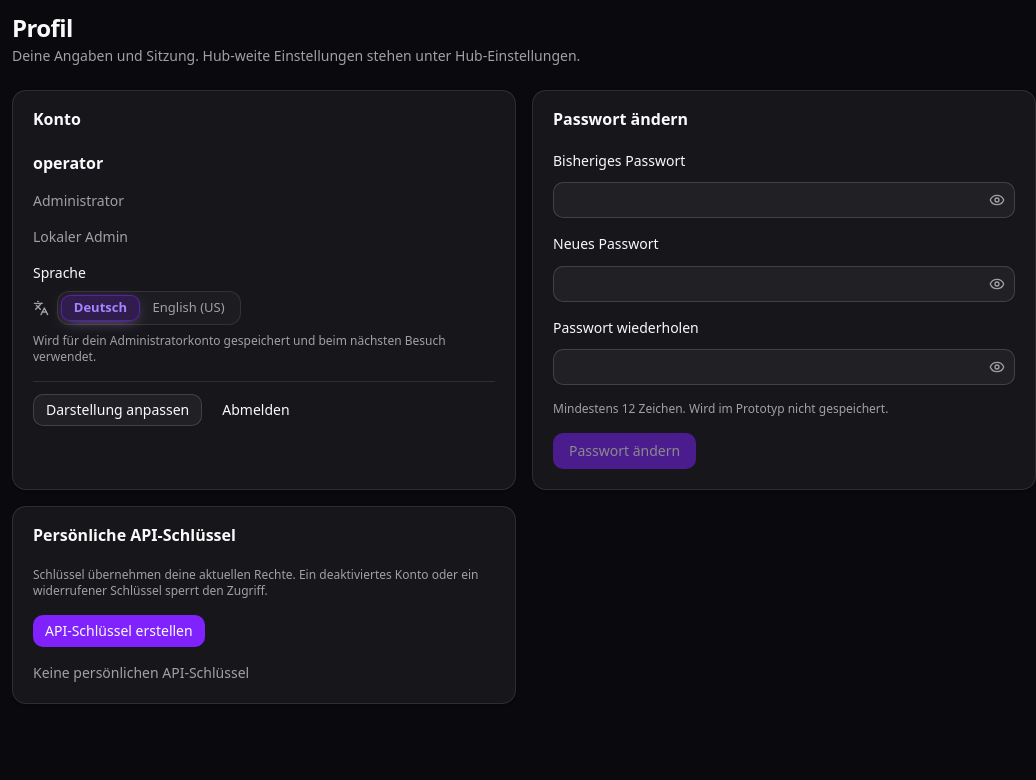
it: keeps a wrong current password inline on the protected profile
Type "wrong-password" into the password field labelled "Bisheriges Passwort" at (770,200), box [554, 182, 985, 218]
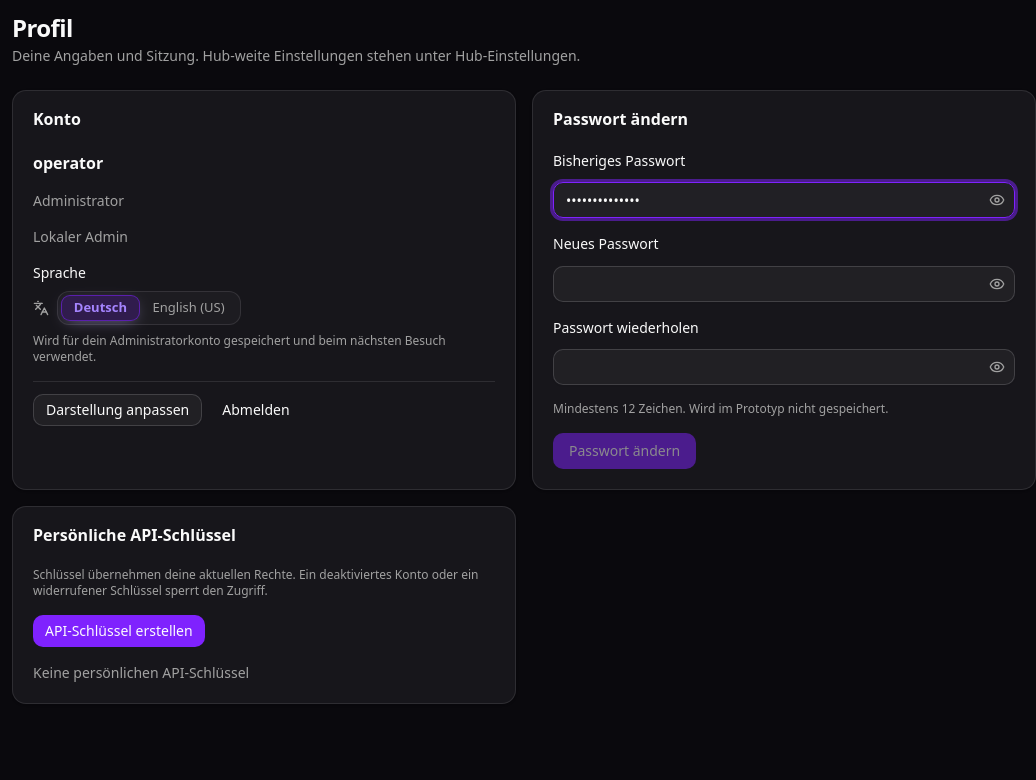
Type "New-password1!" into the password field labelled "Neues Passwort" at (770,284), box [554, 266, 985, 302]
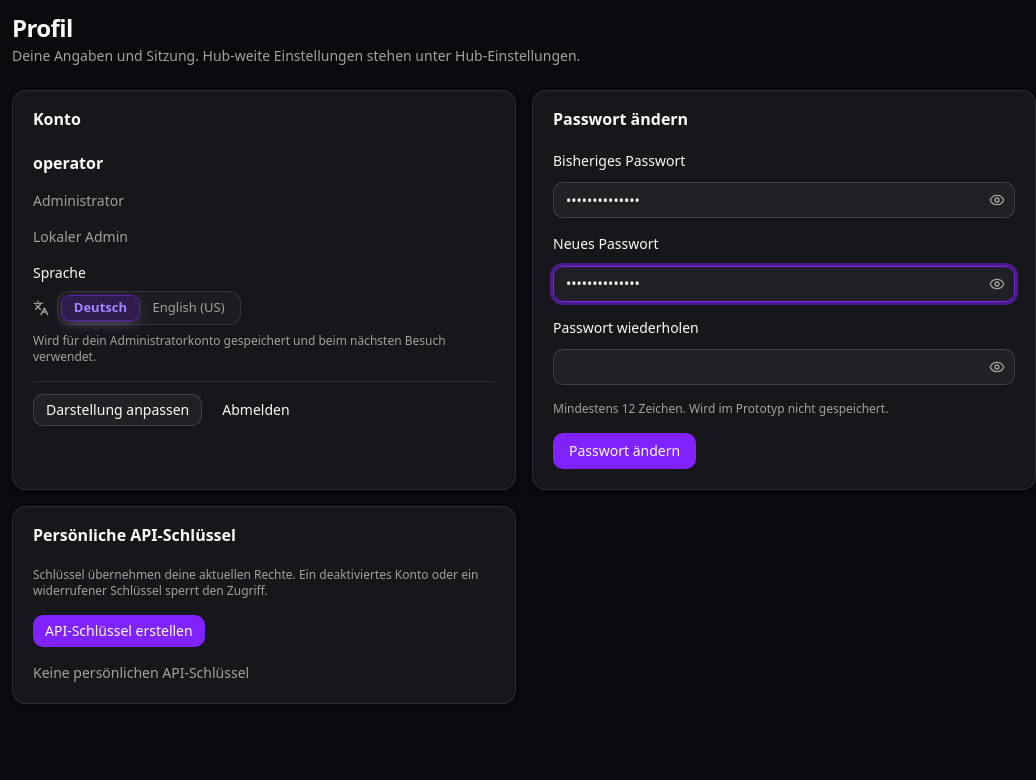
Type "New-password1!" into the password field labelled "Passwort wiederholen" at (770,367), box [554, 349, 985, 385]
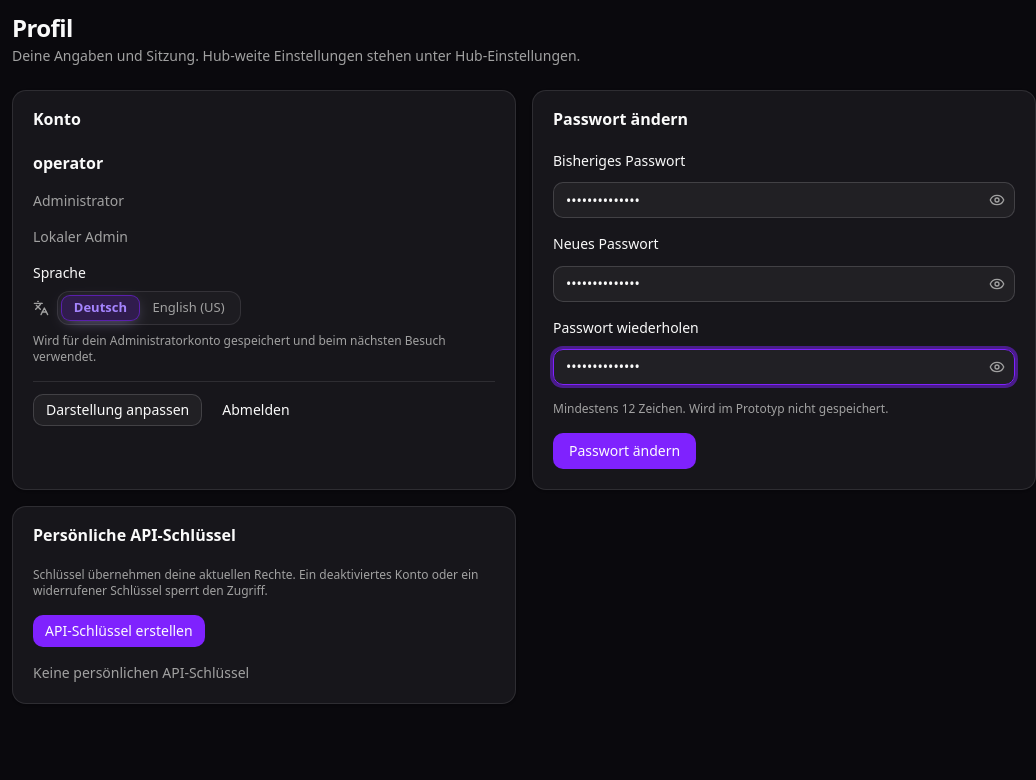
Click the button "Passwort ändern" at (625,451), box [553, 433, 696, 469]
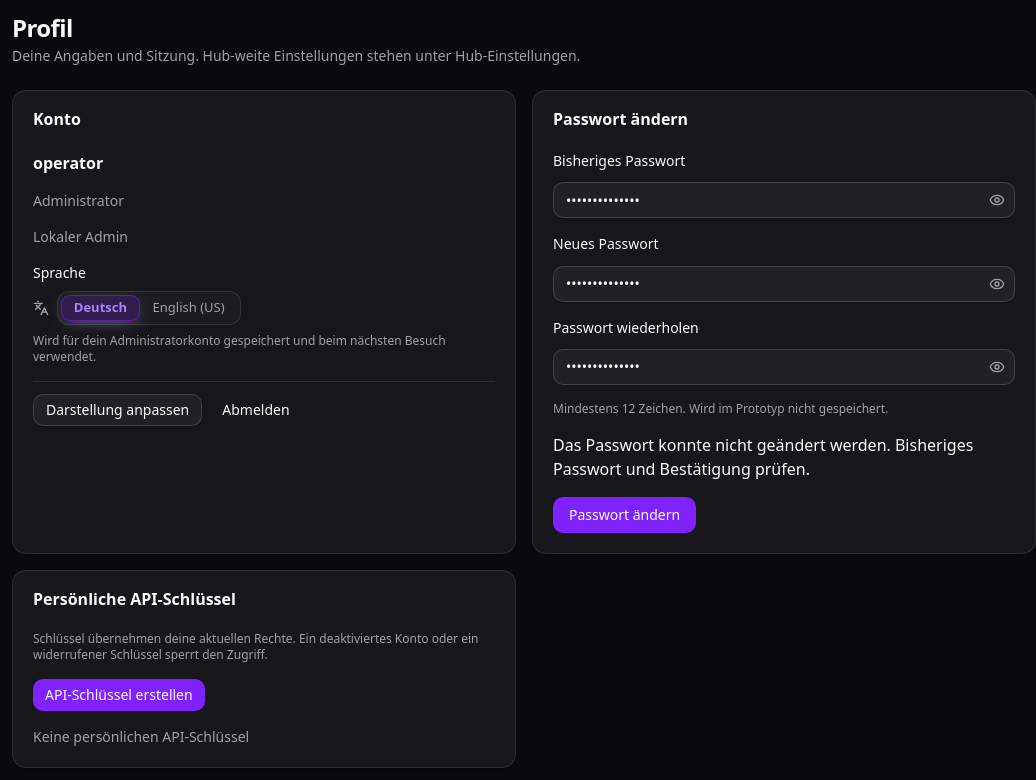
Expected: the message shows "Passwort", [553, 434, 973, 480]
